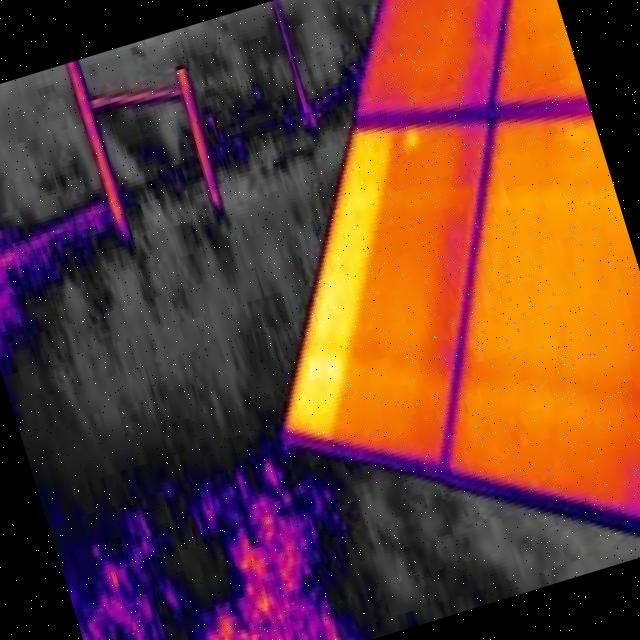Hotspot: (270, 328, 364, 452), (314, 194, 394, 282), (332, 114, 406, 208), (303, 268, 377, 351), (400, 126, 426, 158)
